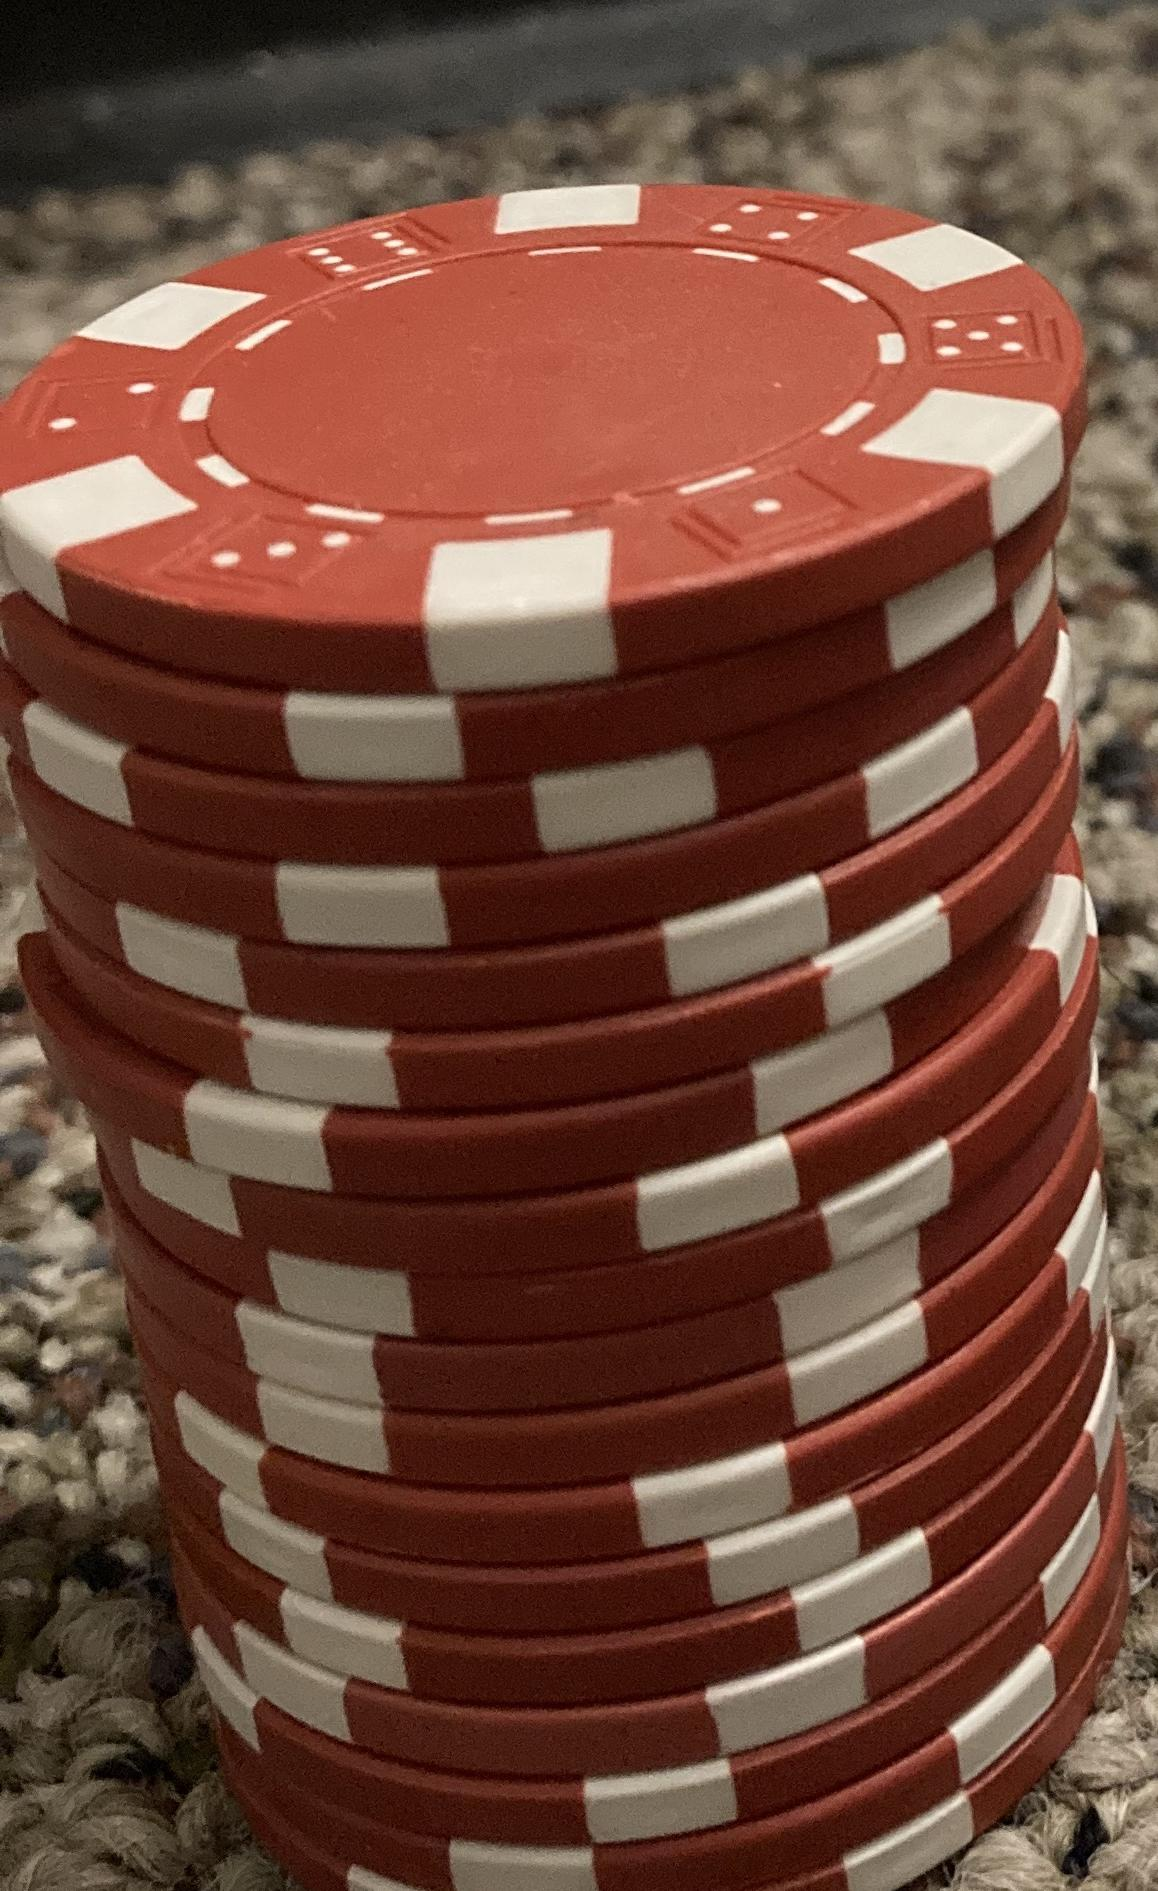Chip: (1, 1, 1158, 1891)
